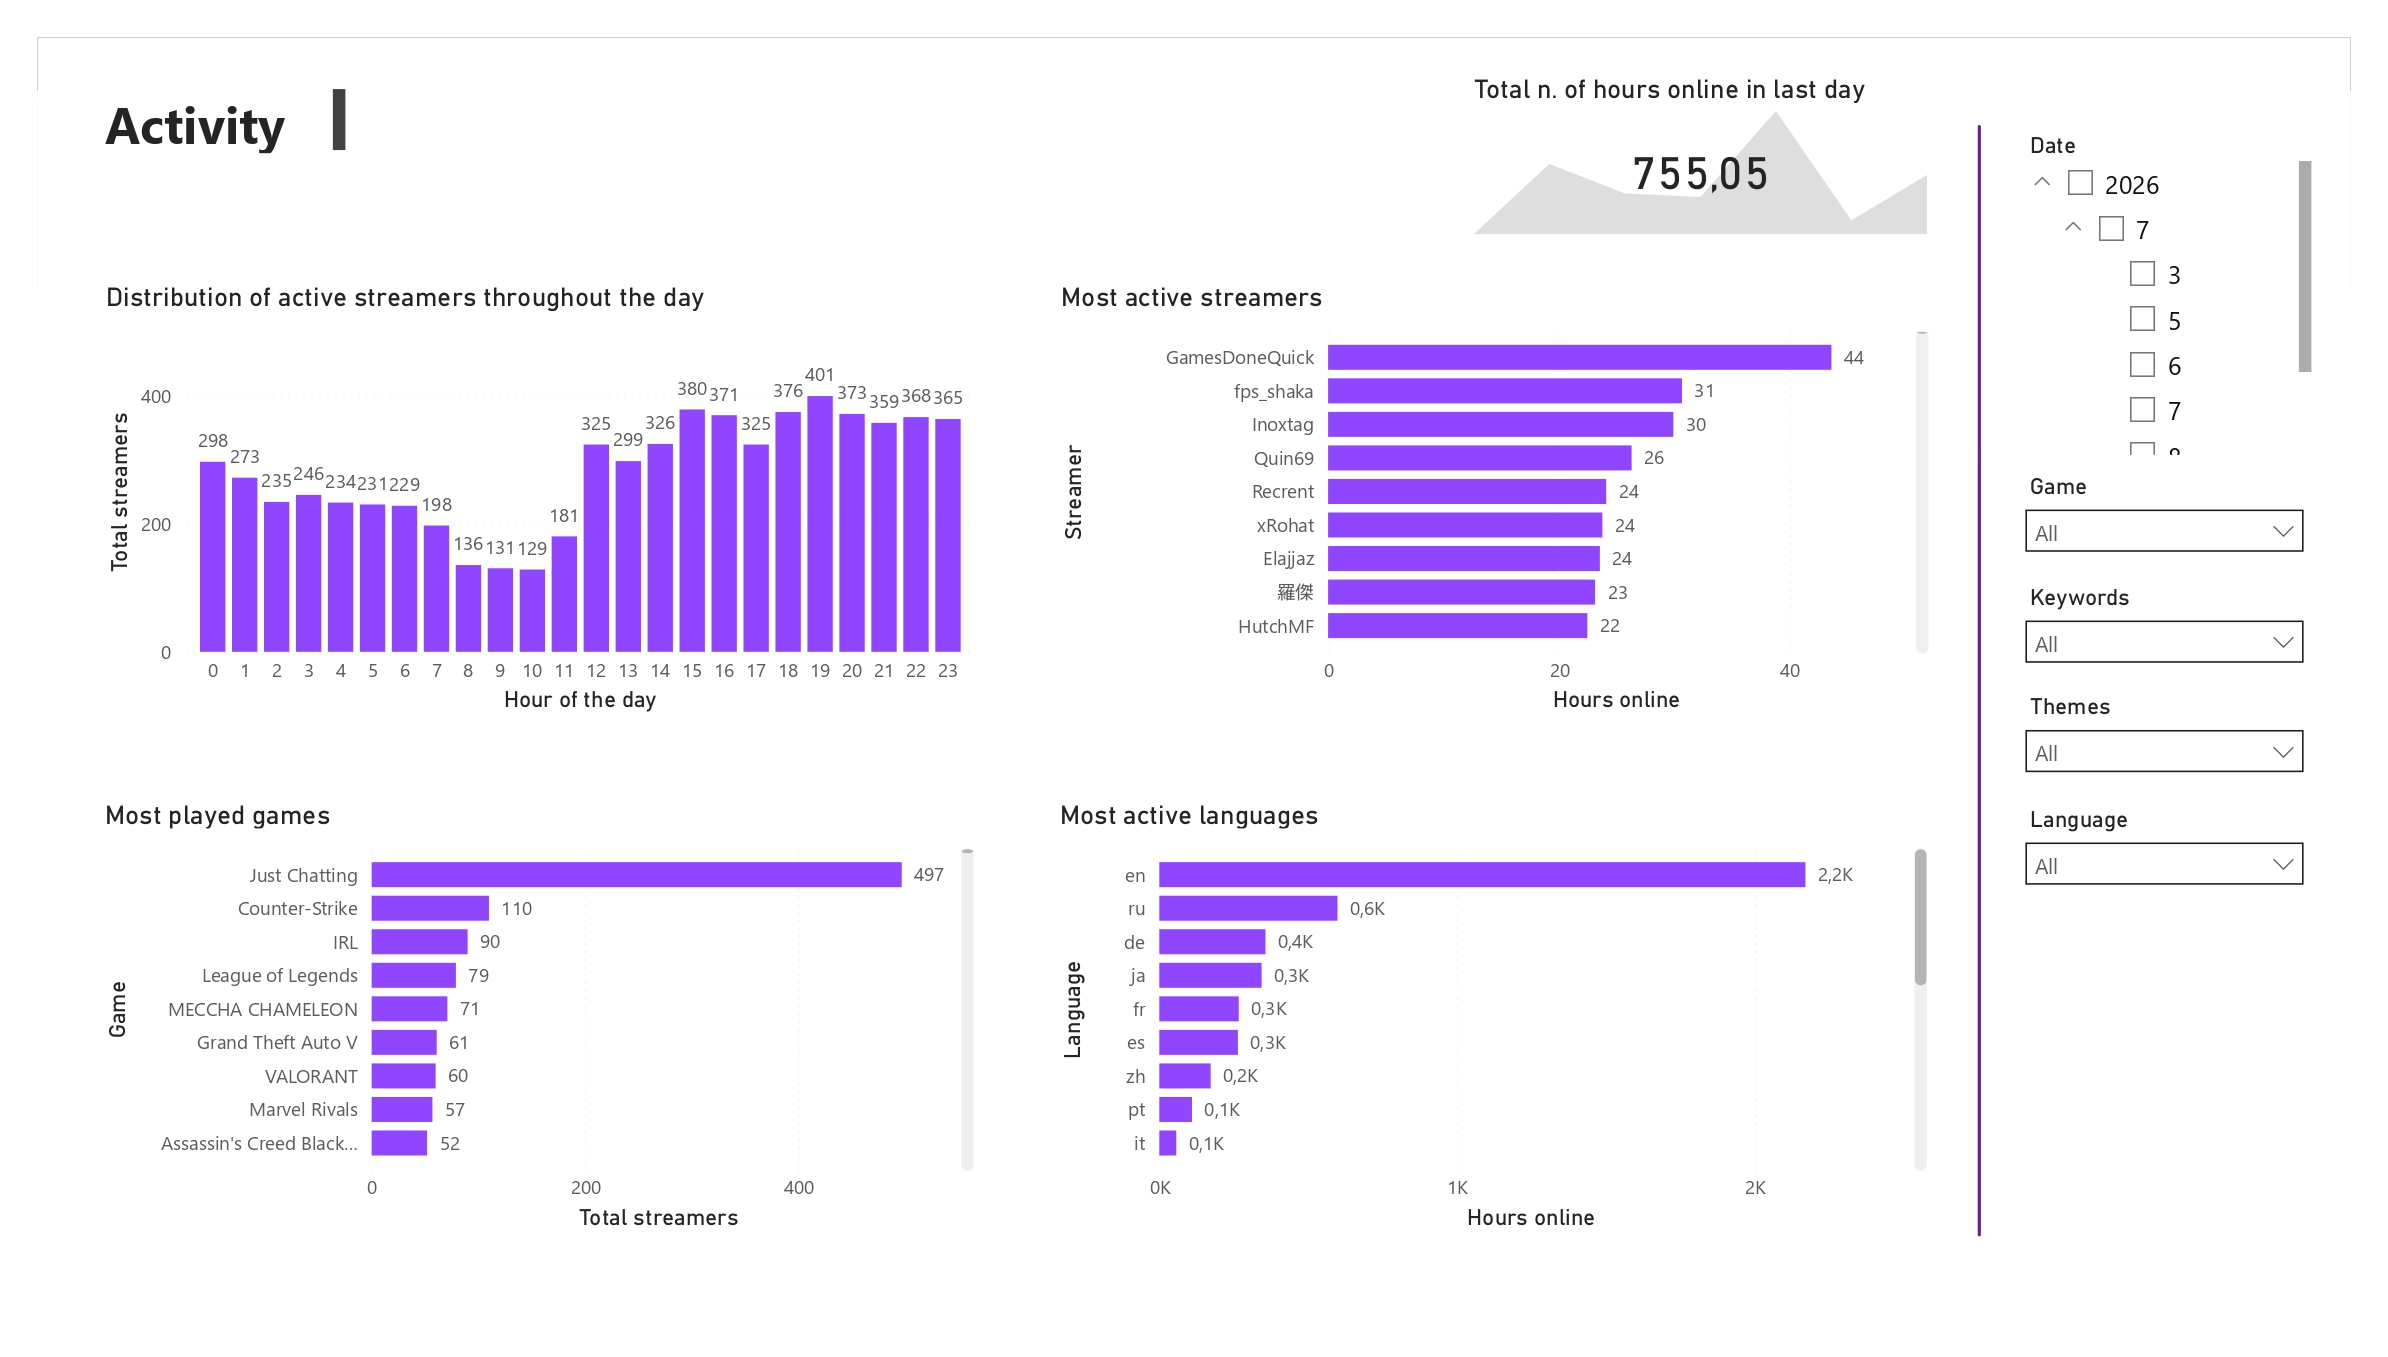

The dashboard page shown, as its layout file describes it:
{"tool":"powerbi","page":{"name":"Activity","canvas":[1480,820],"ordinal":1},"visuals":[{"type":"slicer","fields":{"Values":["dim_game.game_name"]},"box":[1261.6,273.9,198.7,70.7],"z":0},{"type":"slicer","fields":{"Values":["dim_date.date_year","dim_date.date_month","dim_date.date_day"]},"box":[1261.6,55.7,198.7,217.2],"z":1000},{"type":"slicer","fields":{"Values":["game_themes.themes"]},"box":[1261.6,415.3,198.7,71.7],"z":2000},{"type":"slicer","fields":{"Values":["game_keywords.keywords"]},"box":[1261.6,344.6,198.7,70.7],"z":3000},{"type":"shape","box":[1214.4,55.6,56.7,711.7],"z":4000},{"type":"kpi","title":"Total n. of hours online in last day","fields":{"Indicator":["fact_stream_hourly.hours_online"],"TrendLine":["dim_date.date_day"]},"box":[913.8,22.7,299.9,107.8],"z":6000},{"type":"clusteredBarChart","title":"Most active streamers","fields":{"Category":["dim_streamer.user_name"],"Y":["fact_stream_hourly.hours_online"]},"box":[649.9,156.1,564.8,281],"z":7000},{"type":"columnChart","title":"Distribution of active streamers throughout the day","fields":{"Category":["fact_stream_hourly.time_hour"],"Y":["fact_stream_hourly.distinct_streamers"]},"box":[38.8,156.1,564.8,281],"z":8000},{"type":"clusteredBarChart","title":"Most played games","fields":{"Category":["dim_game.game_name"],"Y":["fact_stream_hourly.distinct_streamers"]},"box":[37.8,487.2,565.7,281],"z":9000},{"type":"clusteredBarChart","title":"Most active languages","fields":{"Category":["dim_language.language"],"Y":["fact_stream_hourly.hours_online"]},"box":[649,487,565,281],"z":10000},{"type":"textbox","box":[38,28,164,51],"z":11000},{"type":"slicer","fields":{"Values":["dim_language.language"]},"box":[1262,487,198,72],"z":12000}]}

Visuals, with their boxes on the page's 1480x820 design canvas (x1, y1, x2, y2). These are canvas units, not pixel positions in the 2388x1357 screenshot, which may show the page scaled, cropped or inside an application window:
slicer - dim_game.game_name: bbox=(1262, 274, 1460, 345)
slicer - dim_date.date_year x dim_date.date_month: bbox=(1262, 56, 1460, 273)
slicer - game_themes.themes: bbox=(1262, 415, 1460, 487)
slicer - game_keywords.keywords: bbox=(1262, 345, 1460, 415)
shape: bbox=(1214, 56, 1271, 767)
"Total n. of hours online in last day" kpi: bbox=(914, 23, 1214, 130)
"Most active streamers" clusteredBarChart: bbox=(650, 156, 1215, 437)
"Distribution of active streamers throughout the day" columnChart: bbox=(39, 156, 604, 437)
"Most played games" clusteredBarChart: bbox=(38, 487, 604, 768)
"Most active languages" clusteredBarChart: bbox=(649, 487, 1214, 768)
textbox: bbox=(38, 28, 202, 79)
slicer - dim_language.language: bbox=(1262, 487, 1460, 559)
